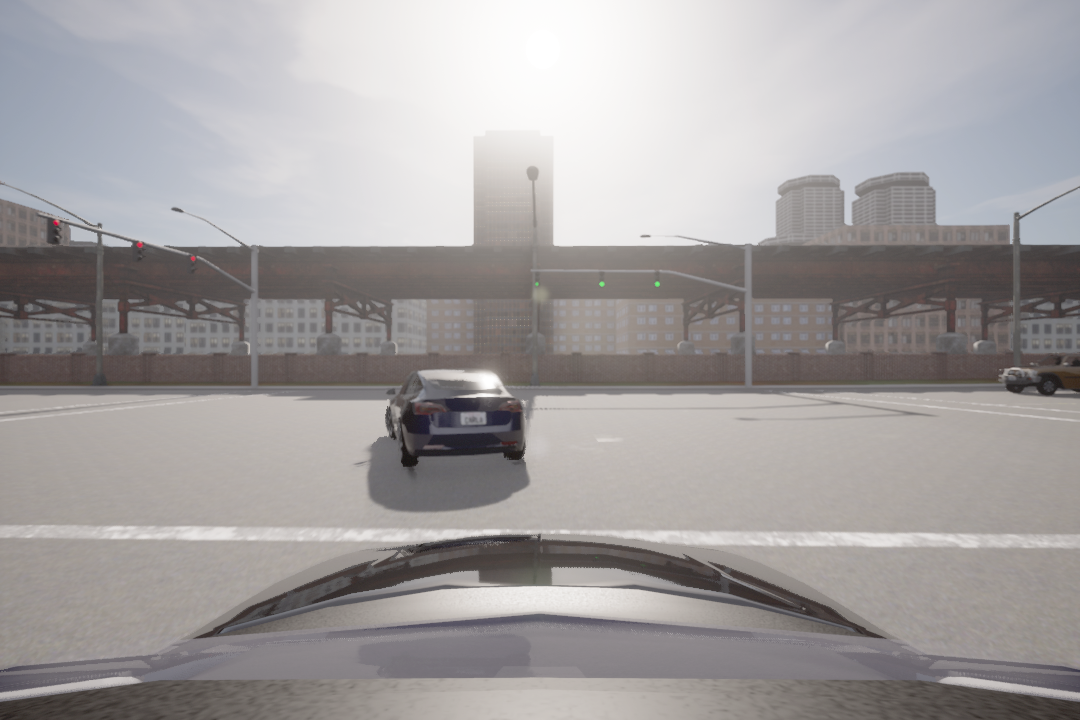TrafficLight: (44, 216, 64, 243), (131, 240, 147, 264), (187, 250, 197, 276), (597, 270, 607, 290), (533, 268, 542, 289), (653, 267, 661, 290)
